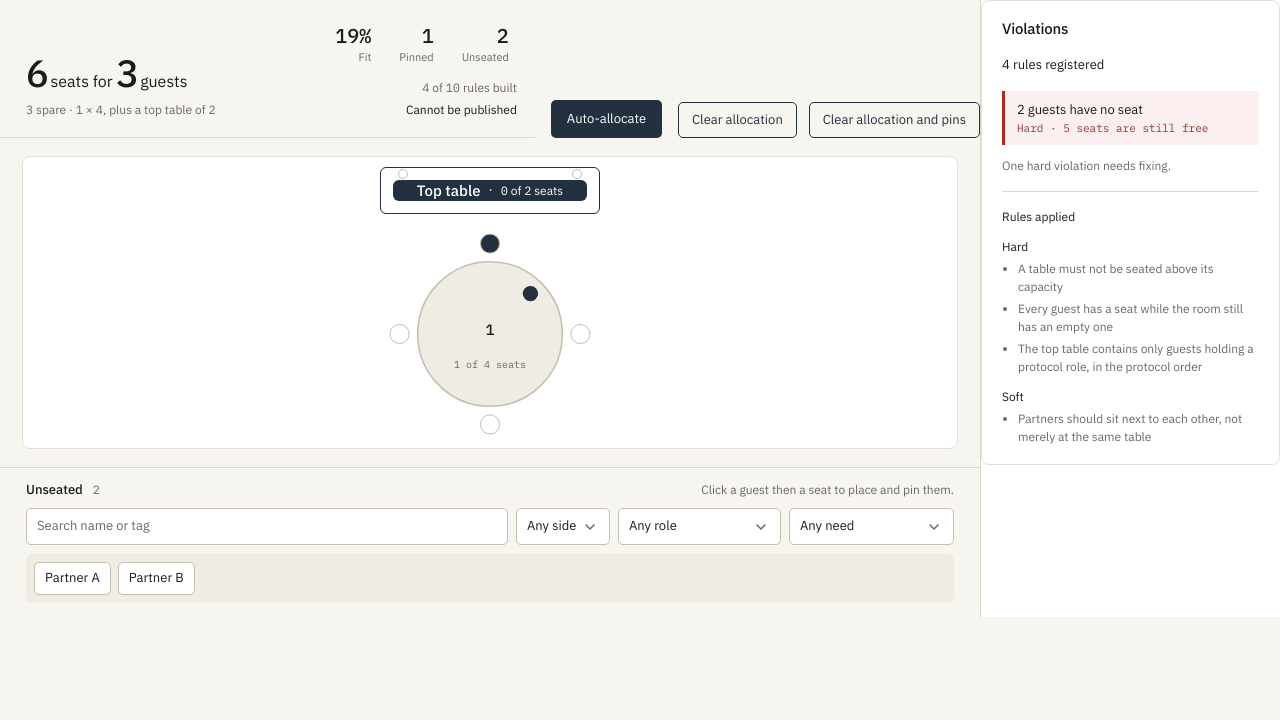
Test case: removeGuest dropping the guest list's last partner pair no longer nulls the score (TT-46) — the pinned column and its focus are untouched either way › leaves the column on the pinned panel and focus on the Pinned toggle, with the score settling on a real, non-null figure
Check: the button "19% Fit" is shown, box 327,22 -> 379,71
Click the button "1 Pinned": (416, 47) 391,22 -> 442,71
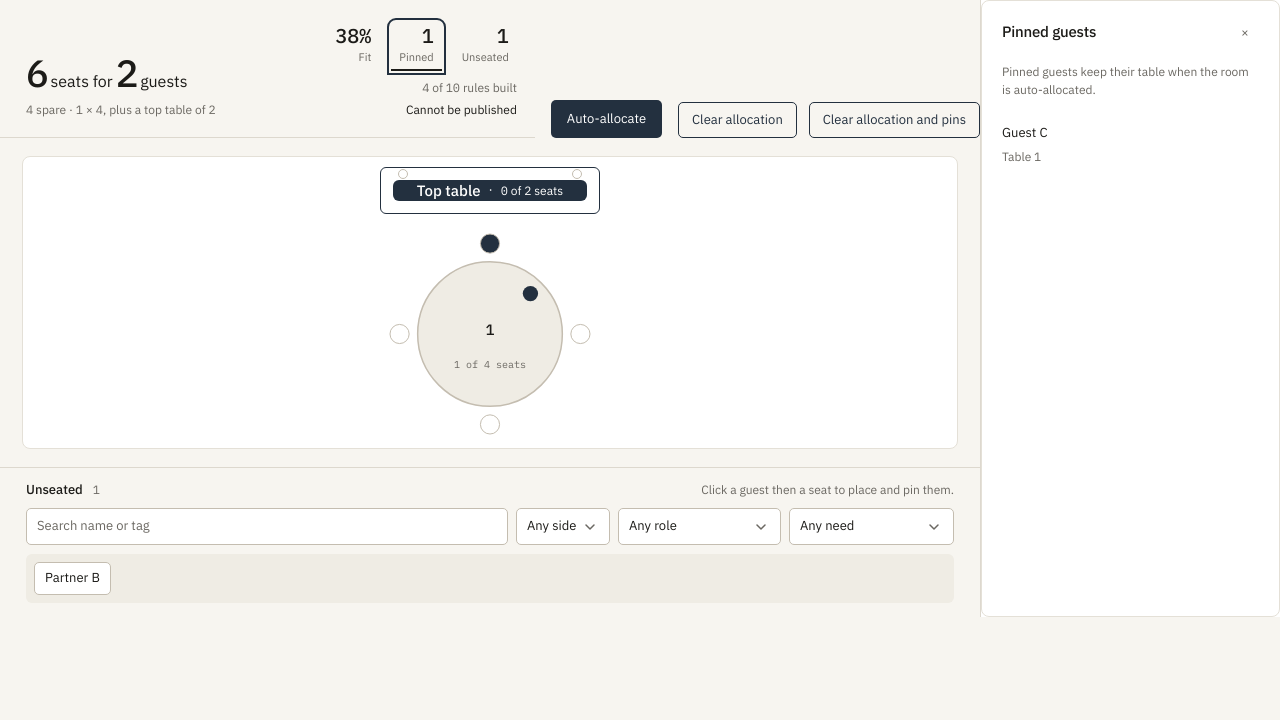
Check: the button "38% Fit" is shown, box 327,22 -> 379,71
Check: the list item "Guest C Table 1" is shown, box 1002,124 -> 1048,164
